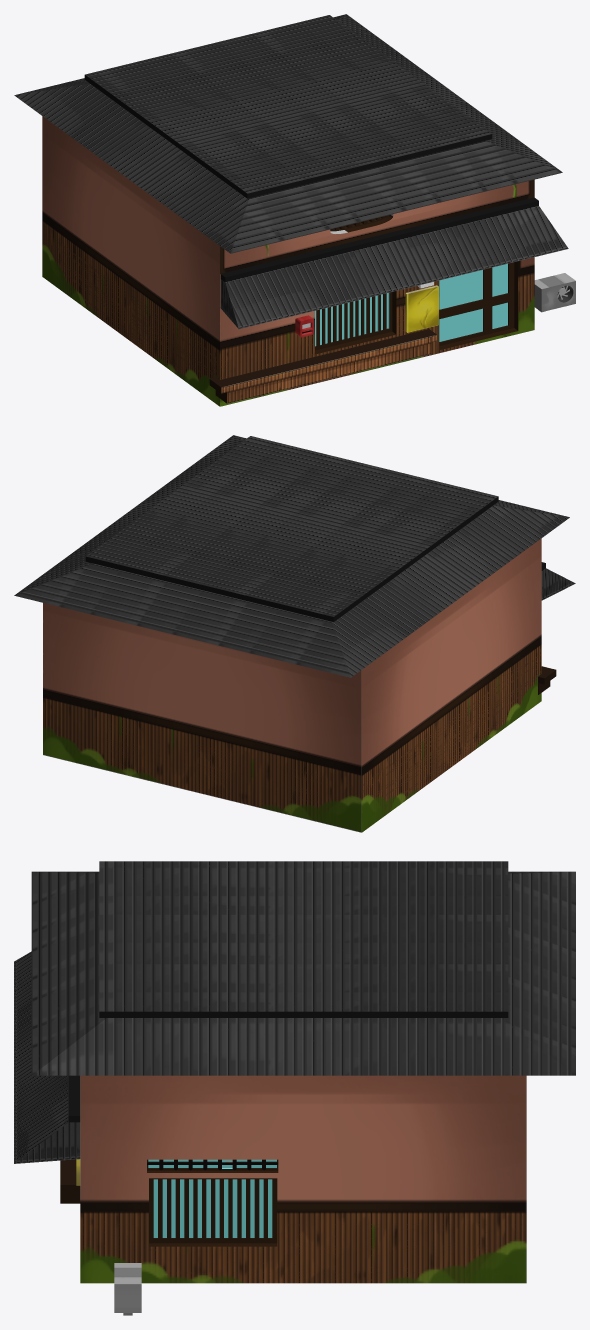
The model's file is House_2_Orange_empty.fbx.
3 views of the same model, one above another, from view 1: azimuth 30°, elevation 25°; view 2: azimuth 150°, elevation 25°; view 3: azimuth 270°, elevation 25° (orthographic). The views are drawn at different scales.
Visible parts, largest first — view 1: Top, building, Cube.015, Cube.030, Cube.011, Cube.014, Cube.010, Cube.016, Cube.008; view 2: building, Top, Cube.015; view 3: Top, building, Cube.019, Cube.015, Cube.013, Cube.008, Cube.030.
Part boxes in pixels (x1=…): Top: x1=14, y1=14, x2=562, y2=253; building: x1=42, y1=116, x2=534, y2=406; Cube.015: x1=220, y1=197, x2=568, y2=329; Cube.030: x1=209, y1=329, x2=436, y2=403; Cube.011: x1=439, y1=269, x2=487, y2=346; Cube.014: x1=315, y1=292, x2=392, y2=350; Cube.010: x1=487, y1=262, x2=514, y2=334; Cube.016: x1=405, y1=285, x2=438, y2=332; Cube.008: x1=534, y1=273, x2=575, y2=312; building: x1=43, y1=538, x2=541, y2=832; Top: x1=14, y1=435, x2=569, y2=677; Cube.015: x1=541, y1=562, x2=575, y2=600; Top: x1=31, y1=861, x2=575, y2=1075; building: x1=80, y1=1075, x2=526, y2=1283; Cube.019: x1=149, y1=1178, x2=277, y2=1243; Cube.015: x1=14, y1=951, x2=80, y2=1163; Cube.013: x1=147, y1=1159, x2=278, y2=1170; Cube.008: x1=114, y1=1263, x2=141, y2=1315; Cube.030: x1=60, y1=1159, x2=80, y2=1203.
Size of the model in its own units: 1609 by 812 by 1647.
